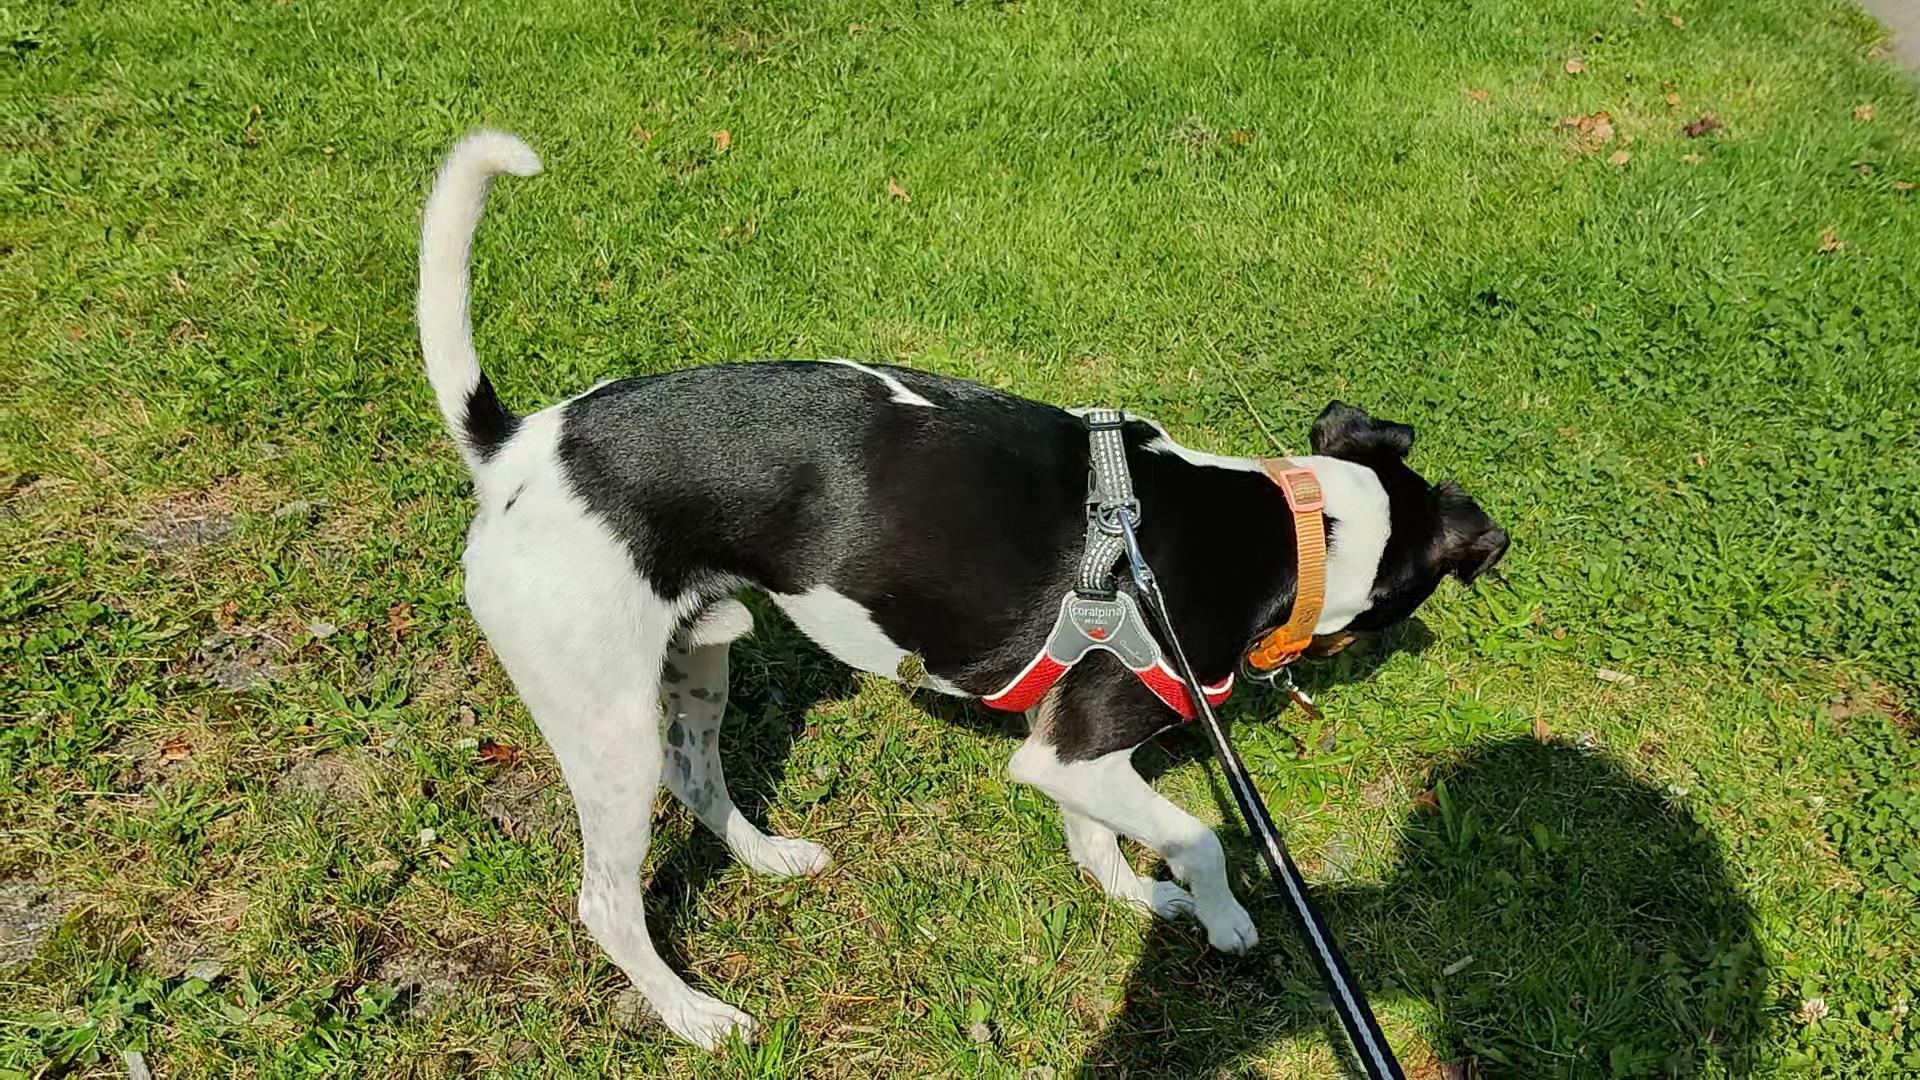Dog: (377, 120, 1532, 1062)
